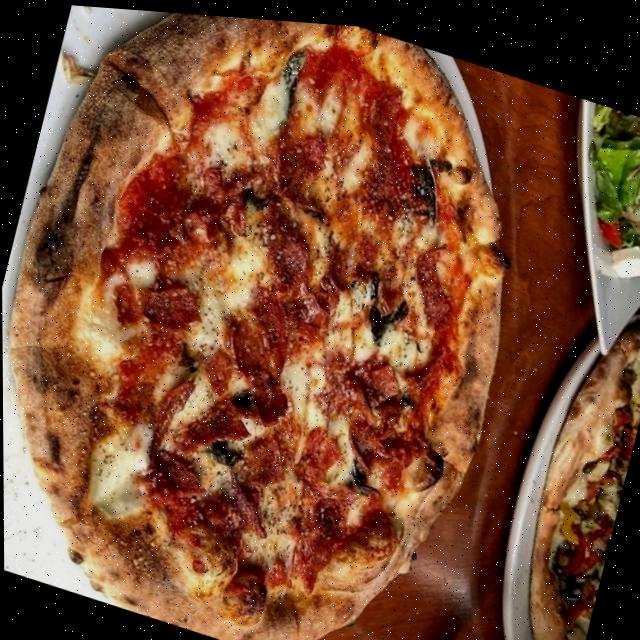pizza: (0, 0, 566, 640), (495, 284, 640, 640)
